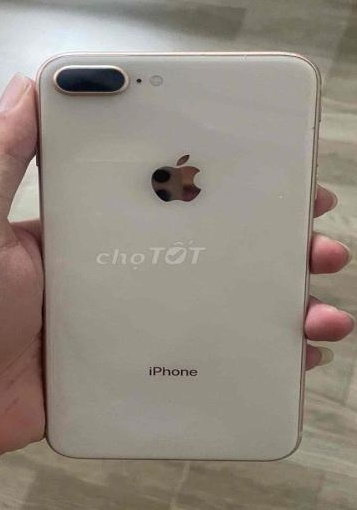scratch: (274, 192, 287, 200), (312, 120, 318, 134)
